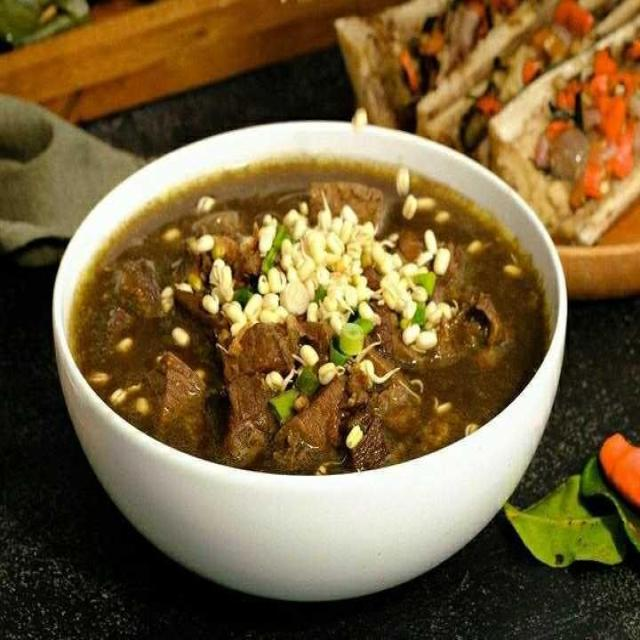Rawon: (73, 157, 547, 459)
